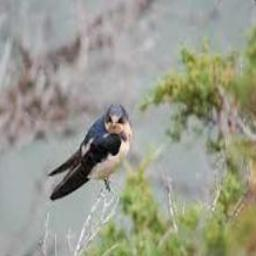Swallow: (47, 102, 132, 199)
